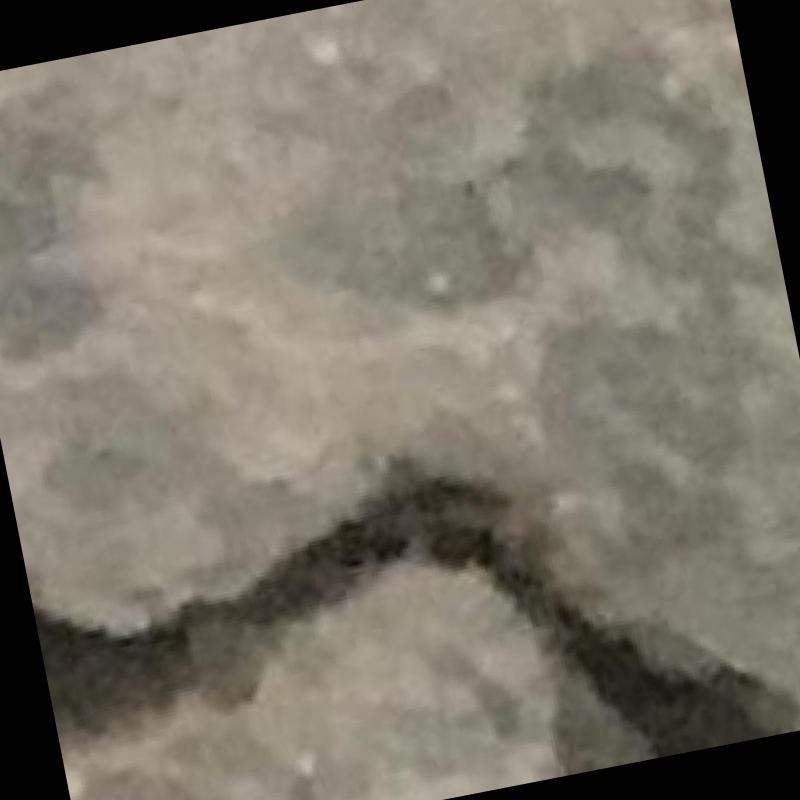pothole: (33, 471, 786, 757)
